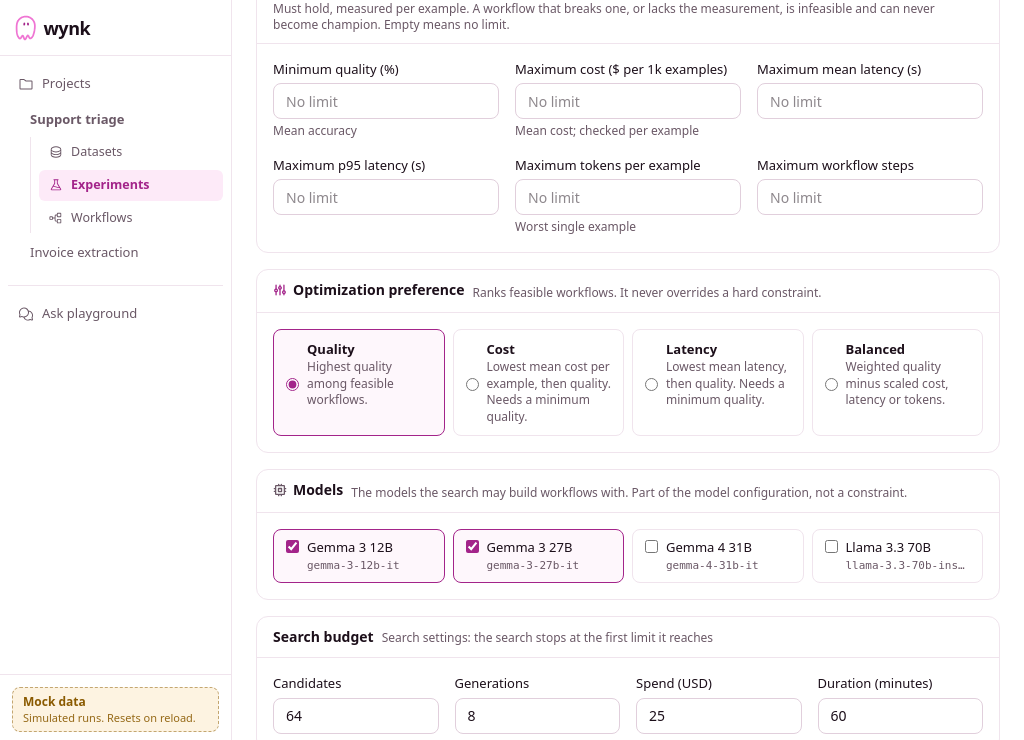
Scenario: screens on the mock adapter › asks for balanced weights and scales, and shows the utility formula
This screenshot has width=1024, height=740.
(page scrolled)
Step 1. Click the radio button labelled "Balanced" → click(831, 384), box [824,344,838,425]
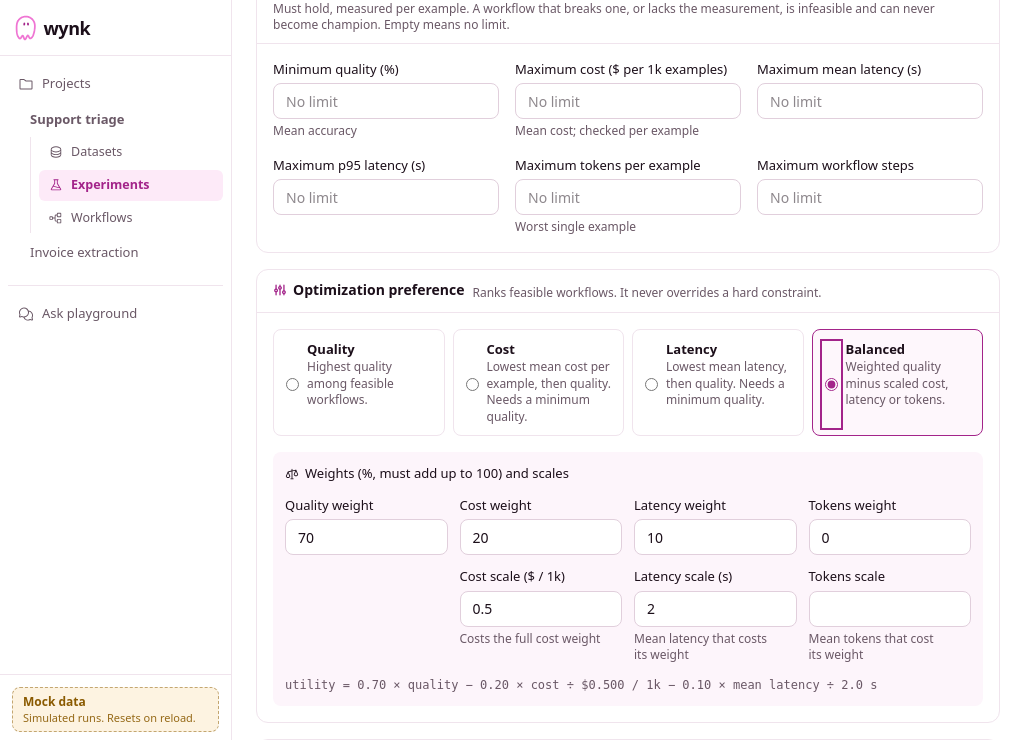
Now the number field labelled "Quality weight" holds "70", box [285,519,448,555]
Now the text "utility = 0.70 × quality − 0.20 × cost ÷ $0.500 / 1k − 0.10 × mean latency ÷ 2.0 s" is shown, box [285,676,971,694]
